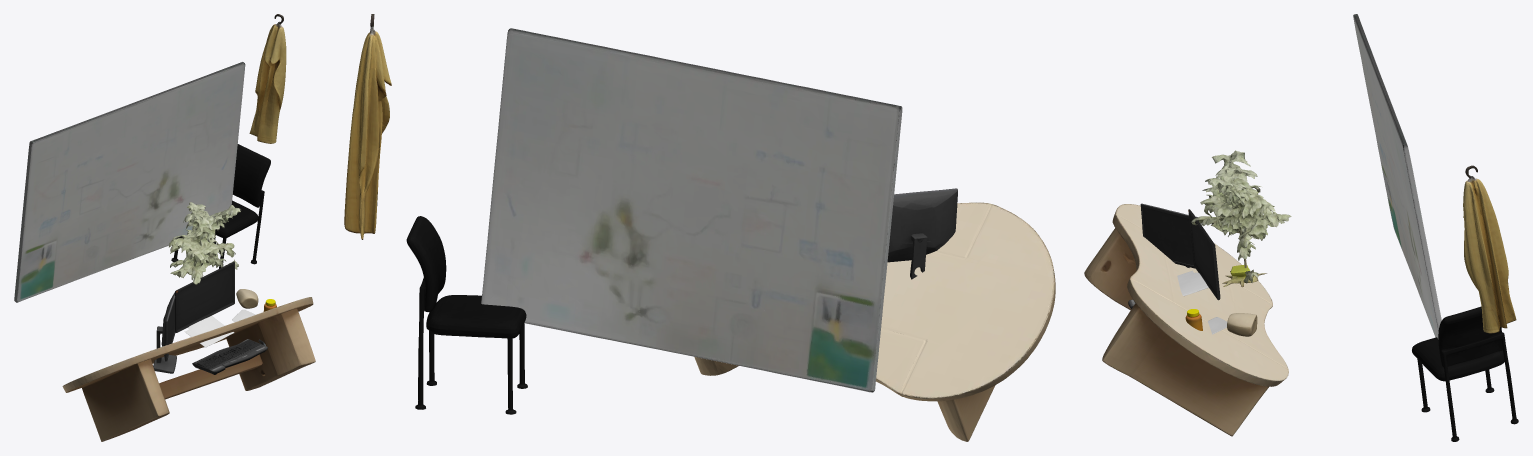
File: sam3d.glb
3 renders of one model, left to right at view 1: azimuth 30°, elevation 25°; view 2: azimuth 150°, elevation 25°; view 3: azimuth 270°, elevation 25°, orthographic. The views are drawn at different scales.
Parts seen in each view (by area): view 1: object_6, object_4, object_12, object_7, object_3, object_5, object_1, object_8, object_11, object_9; view 2: object_6, object_4, object_3, object_7, object_8; view 3: object_4, object_6, object_3, object_12, object_7, object_8, object_5, object_9, object_11.
Part boxes in pixels (x1=…): object_6: x1=14, y1=62, x2=245, y2=302; object_4: x1=62, y1=297, x2=315, y2=441; object_12: x1=169, y1=202, x2=240, y2=284; object_7: x1=249, y1=14, x2=286, y2=143; object_3: x1=171, y1=144, x2=270, y2=268; object_5: x1=174, y1=262, x2=234, y2=332; object_1: x1=192, y1=339, x2=267, y2=374; object_8: x1=153, y1=292, x2=176, y2=373; object_11: x1=185, y1=315, x2=234, y2=347; object_9: x1=236, y1=289, x2=258, y2=308; object_6: x1=481, y1=28, x2=902, y2=392; object_4: x1=694, y1=202, x2=1055, y2=441; object_3: x1=406, y1=216, x2=527, y2=414; object_7: x1=344, y1=14, x2=391, y2=239; object_8: x1=887, y1=188, x2=957, y2=279; object_4: x1=1084, y1=204, x2=1288, y2=436; object_6: x1=1353, y1=14, x2=1441, y2=339; object_3: x1=1412, y1=306, x2=1518, y2=441; object_12: x1=1191, y1=150, x2=1291, y2=287; object_7: x1=1463, y1=165, x2=1516, y2=333; object_8: x1=1140, y1=203, x2=1198, y2=268; object_5: x1=1188, y1=209, x2=1220, y2=300; object_9: x1=1227, y1=313, x2=1257, y2=336; object_11: x1=1177, y1=270, x2=1208, y2=295.
Bounding box in the file's own units: 2.7 × 2.23 × 2.49.
Materials: 13 (13 with a texture image).
